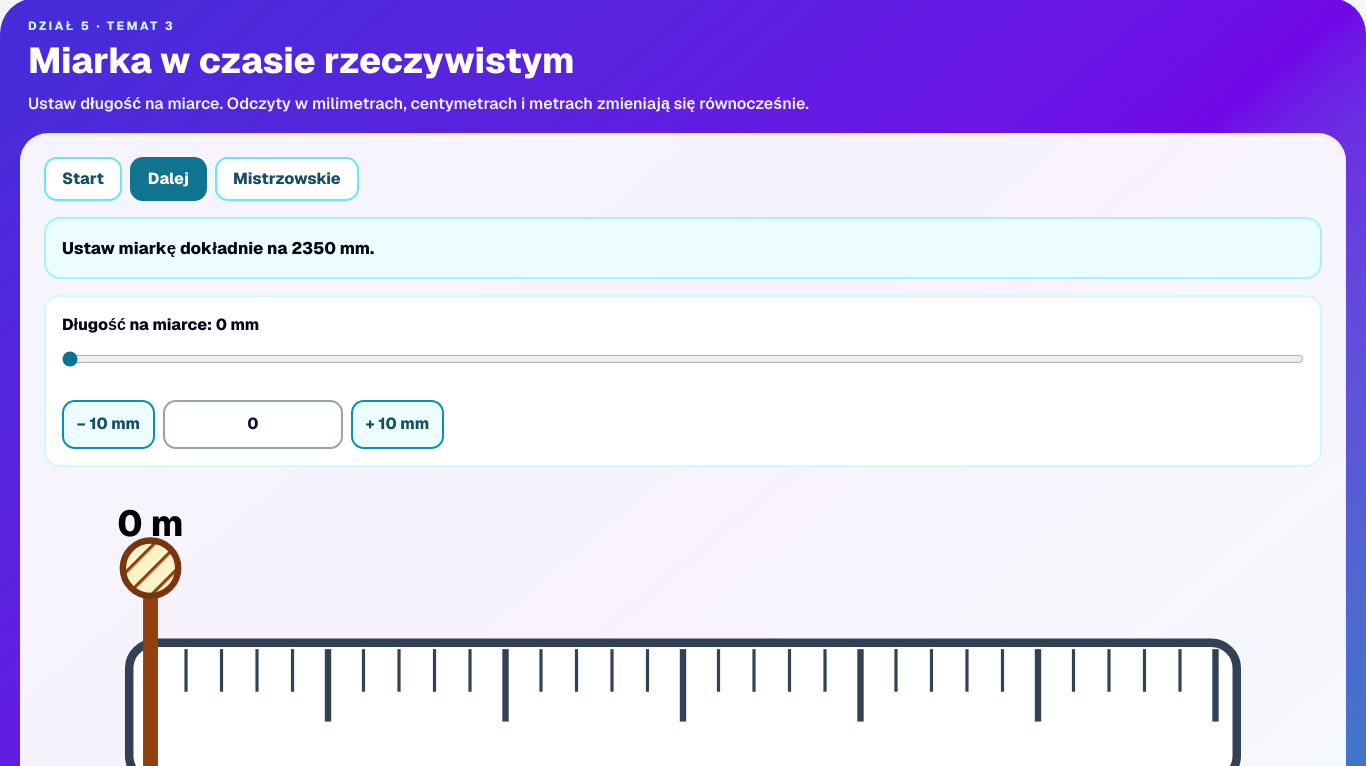
Test: DecimalMeasurementL1Lab przez lokalny adapter decimal-notation-l1 › aktualizuje miarkę realtime w mm, cm i m oraz udostępnia dane tekstowe
Replace the text in the field named "Wpisz długość w milimetrach" with "2350" at x=253, y=424, box x1=163 y1=400 x2=343 y2=449
(page scrolled)
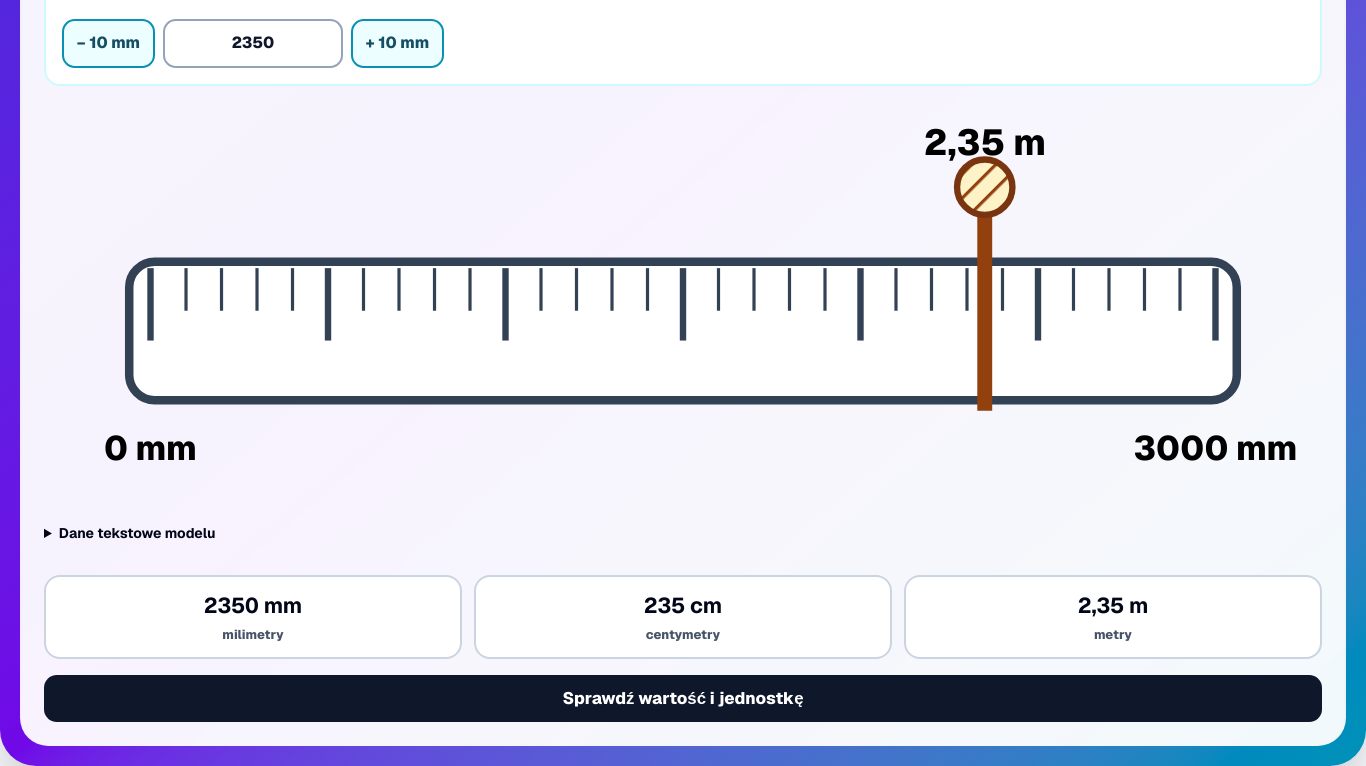
Expected: the picture "2,35 m 0 mm 3000 mm" is shown, x1=44 y1=102 x2=1322 y2=506
Click the button "Sprawdź wartość i jednostkę" at x=683, y=699, box x1=44 y1=675 x2=1322 y2=722
(page scrolled)
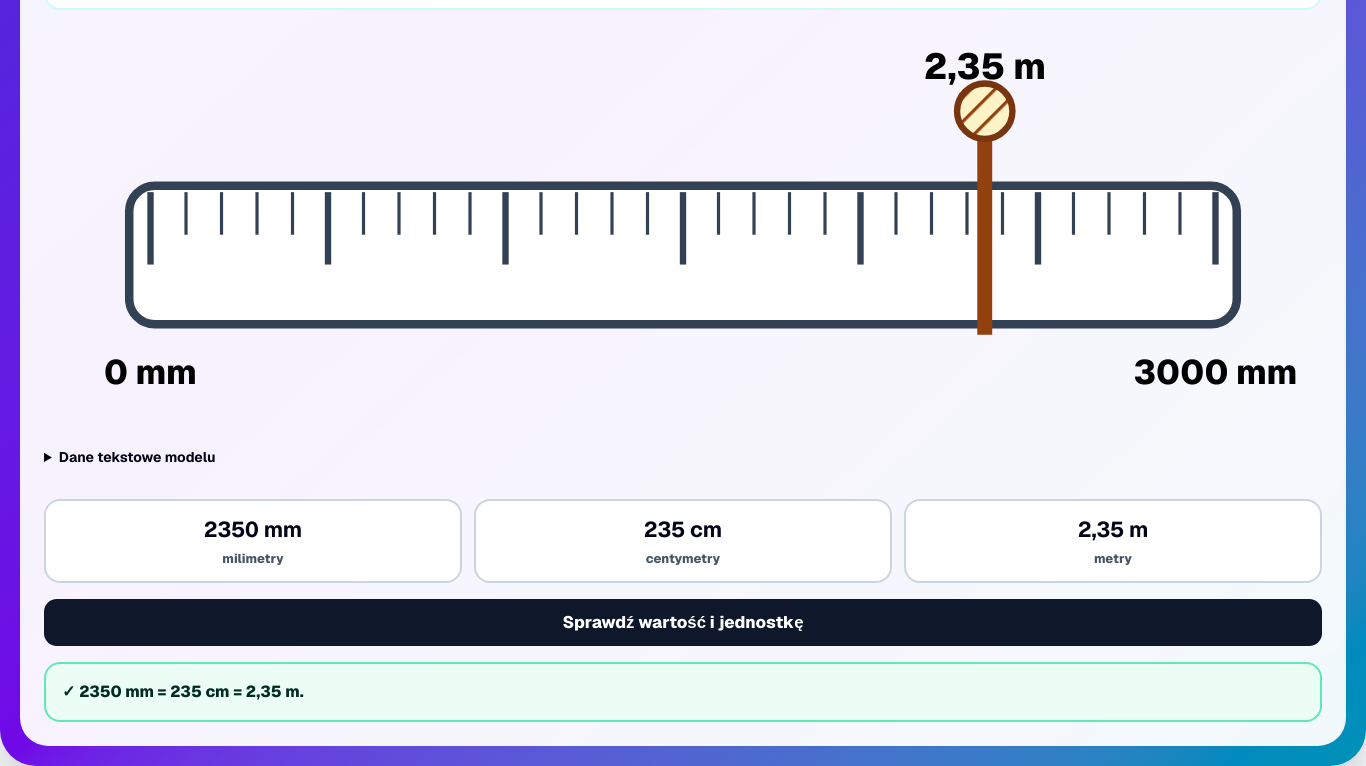
Now the message shows "2350 mm = 235 cm = 2,35 m", box x1=79 y1=681 x2=304 y2=702
